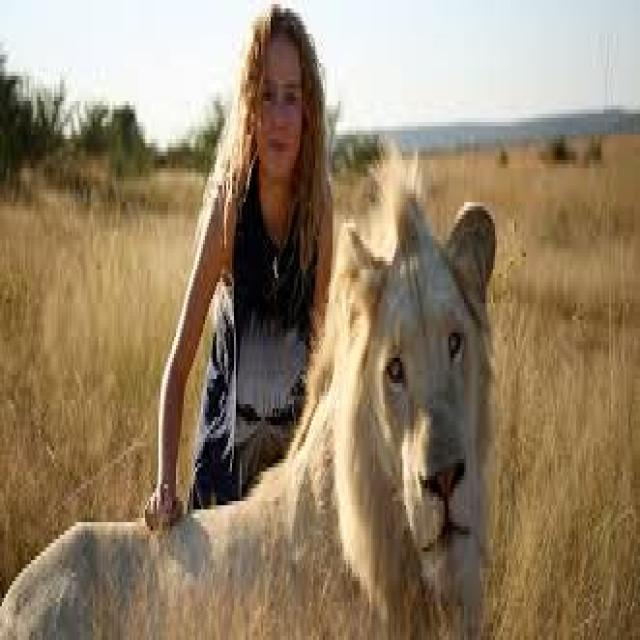Lion: (0, 145, 496, 636)
